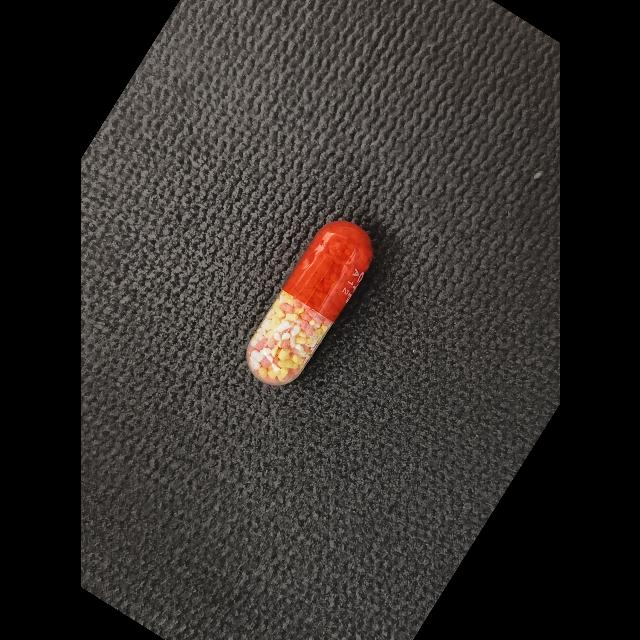Intact Capsule: (245, 221, 372, 385)
